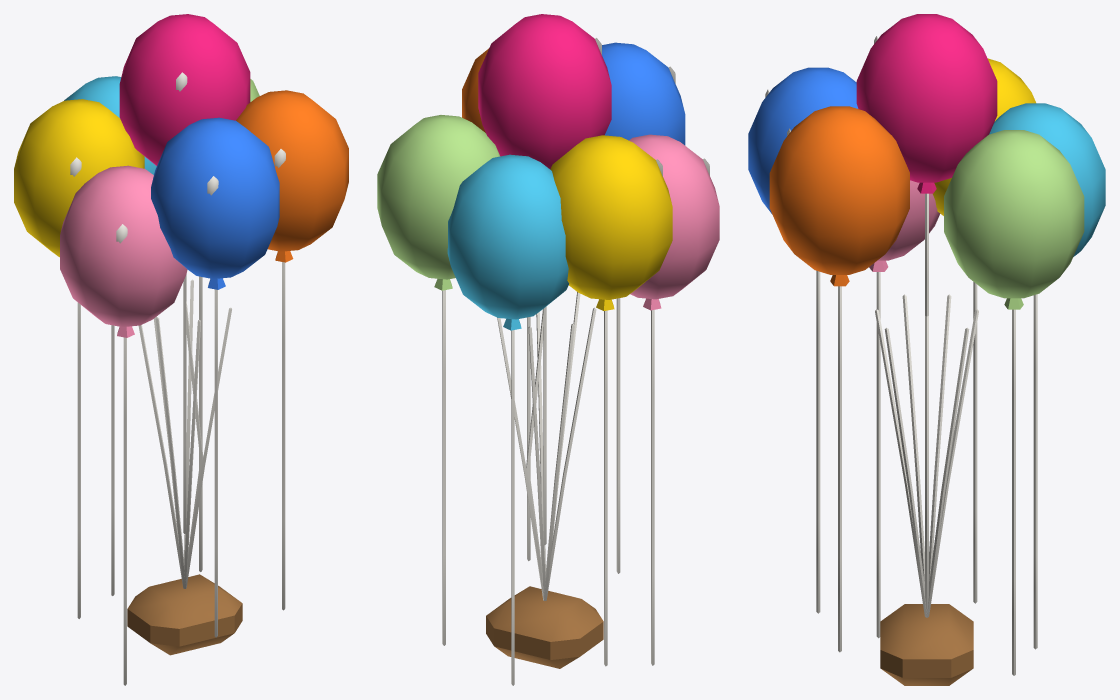
File: W6_Balloons_A.fbx
3 renders of one model, left to right at view 1: azimuth 30°, elevation 25°; view 2: azimuth 150°, elevation 25°; view 3: azimuth 270°, elevation 25°, orthographic. The views are drawn at different scales.
Visible parts, largest first — view 1: W6_Balloons_A; view 2: W6_Balloons_A; view 3: W6_Balloons_A.
Part boxes in pixels (x1,y1,x2,y2): W6_Balloons_A: (14, 14, 348, 685); W6_Balloons_A: (377, 14, 719, 685); W6_Balloons_A: (748, 14, 1105, 685).
Size of the model in its own units: 1.77 by 4.26 by 2.09.
